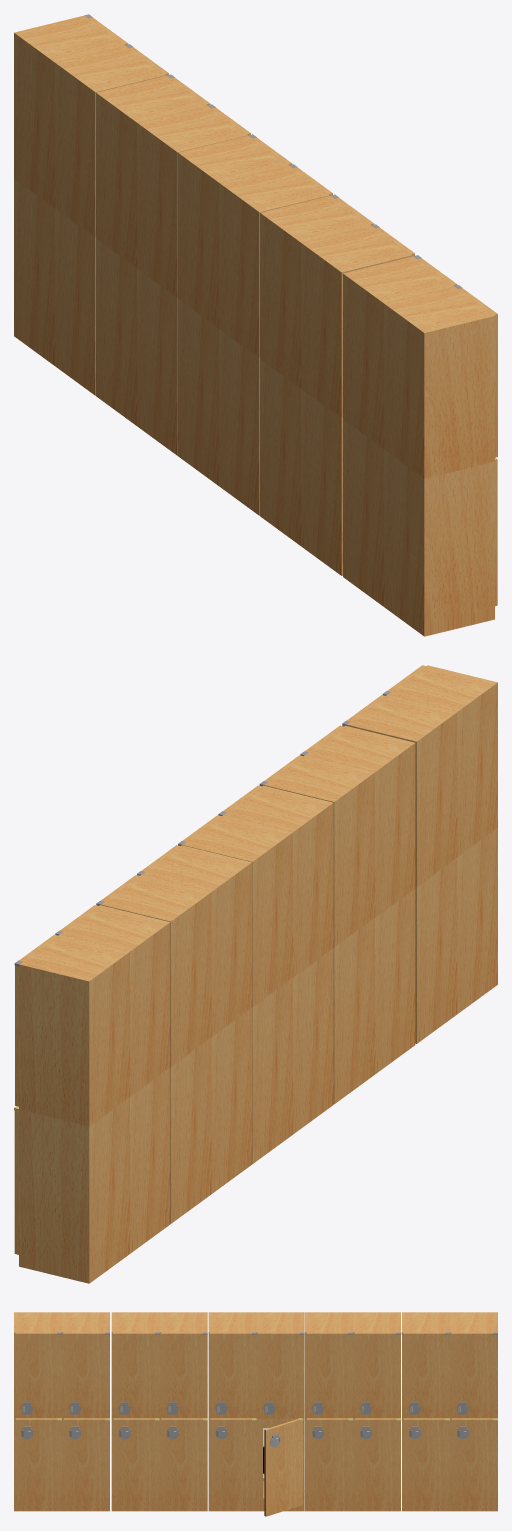
Rendered from Locker.fbx.
The picture shows the model from 3 angles, top to bottom: view 1: azimuth 30°, elevation 25°; view 2: azimuth 150°, elevation 25°; view 3: azimuth 270°, elevation 25°; orthographic projection. The views are drawn at different scales.
Visible parts, largest first — view 1: Top.Locker.001, Locker.002, Top.Locker.003, Top.Locker.005, Top.Locker.009, Top.Locker.007, Top.Locker.002, Top.Locker.004, Top.Locker.006, Top.Locker.008, Top.Locker, Locker.009 (+8 smaller); view 2: Top.Locker.008, Locker.008, Top.Locker, Top.Locker.006, Top.Locker.002, Top.Locker.007, Top.Locker.004, Top.Locker.003, Top.Locker.005, Top.Locker.009, Top.Locker.001, Locker (+10 smaller); view 3: Locker.Door, Locker.Door.001, Locker.Door.002, Locker.Door.003, Locker.Door.005, Locker.Door.007, Locker.Door.008, Locker.Door.009, Locker.Door.006, Top.Locker.Door.006, Top.Locker.Door, Top.Locker.Door.001 (+28 smaller).
Boxes of the visible parts, x1=… form: Top.Locker.001: x1=383, y1=286, x2=494, y2=478; Locker.002: x1=383, y1=449, x2=494, y2=636; Top.Locker.003: x1=301, y1=225, x2=411, y2=417; Top.Locker.005: x1=218, y1=165, x2=329, y2=357; Top.Locker.009: x1=54, y1=45, x2=165, y2=237; Top.Locker.007: x1=137, y1=105, x2=247, y2=298; Top.Locker.002: x1=260, y1=195, x2=370, y2=388; Top.Locker.004: x1=178, y1=135, x2=288, y2=328; Top.Locker.006: x1=96, y1=75, x2=206, y2=268; Top.Locker.008: x1=14, y1=15, x2=124, y2=207; Top.Locker: x1=343, y1=256, x2=453, y2=448; Locker.009: x1=54, y1=208, x2=95, y2=395; Top.Locker.008: x1=19, y1=935, x2=129, y2=1126; Locker.008: x1=19, y1=1097, x2=129, y2=1283; Top.Locker: x1=346, y1=695, x2=457, y2=886; Top.Locker.006: x1=101, y1=875, x2=211, y2=1066; Top.Locker.002: x1=264, y1=755, x2=374, y2=946; Top.Locker.007: x1=142, y1=845, x2=252, y2=1036; Top.Locker.004: x1=182, y1=815, x2=292, y2=1006; Top.Locker.003: x1=305, y1=725, x2=415, y2=917; Top.Locker.005: x1=223, y1=785, x2=333, y2=977; Top.Locker.009: x1=60, y1=905, x2=170, y2=1096; Top.Locker.001: x1=388, y1=665, x2=497, y2=856; Locker: x1=415, y1=857, x2=457, y2=1043; Locker.Door: x1=63, y1=1418, x2=109, y2=1505; Locker.Door.001: x1=15, y1=1418, x2=61, y2=1505; Locker.Door.002: x1=161, y1=1418, x2=207, y2=1505; Locker.Door.003: x1=113, y1=1418, x2=159, y2=1505; Locker.Door.005: x1=210, y1=1418, x2=256, y2=1505; Locker.Door.007: x1=307, y1=1418, x2=353, y2=1505; Locker.Door.008: x1=451, y1=1418, x2=497, y2=1505; Locker.Door.009: x1=403, y1=1418, x2=449, y2=1505; Locker.Door.006: x1=355, y1=1418, x2=401, y2=1505; Top.Locker.Door.006: x1=354, y1=1332, x2=401, y2=1417; Top.Locker.Door: x1=63, y1=1332, x2=109, y2=1417; Top.Locker.Door.001: x1=15, y1=1332, x2=61, y2=1417.
Bounding box in the file's own units: 321 × 823 × 2016.
